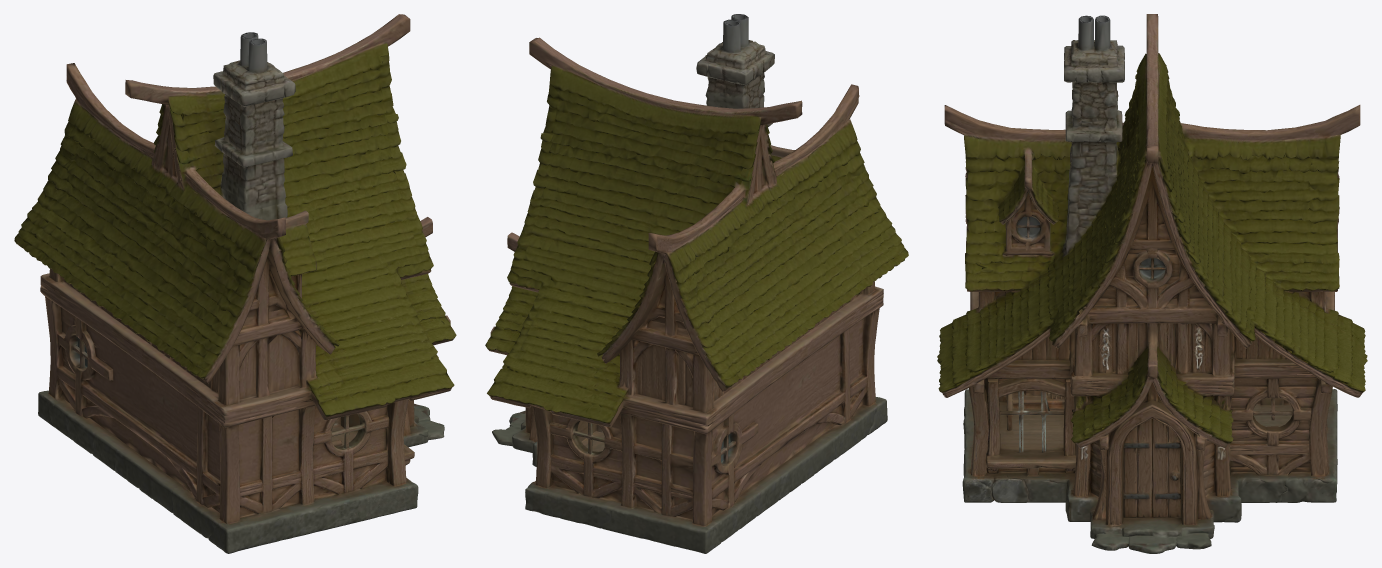
Rendered from woodcillagehouse1.glb.
3 views of the same model, side by side, from view 1: azimuth 30°, elevation 25°; view 2: azimuth 150°, elevation 25°; view 3: azimuth 270°, elevation 25° (orthographic). The views are drawn at different scales.
Visible parts, largest first — view 1: tripo_node_fc897c64-d899-4da3-a9fb-b08c3301c741; view 2: tripo_node_fc897c64-d899-4da3-a9fb-b08c3301c741; view 3: tripo_node_fc897c64-d899-4da3-a9fb-b08c3301c741.
Part boxes in pixels (<box>): tripo_node_fc897c64-d899-4da3-a9fb-b08c3301c741: <box>14,14,456,553</box>; tripo_node_fc897c64-d899-4da3-a9fb-b08c3301c741: <box>485,14,908,553</box>; tripo_node_fc897c64-d899-4da3-a9fb-b08c3301c741: <box>937,14,1367,553</box>.
Bounding box in the file's own units: 0.7493 × 0.9784 × 0.8729.
1 material, 1 textured.
